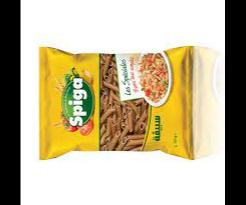plume: (39, 45, 193, 160)
